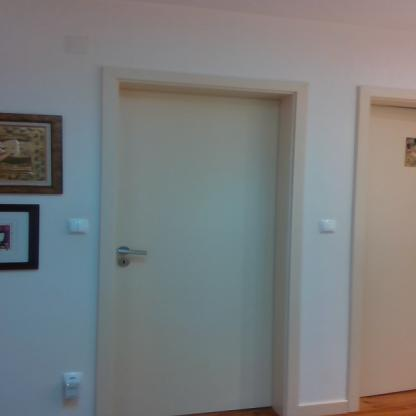door: (119, 87, 274, 410)
lever: (118, 247, 152, 257)
